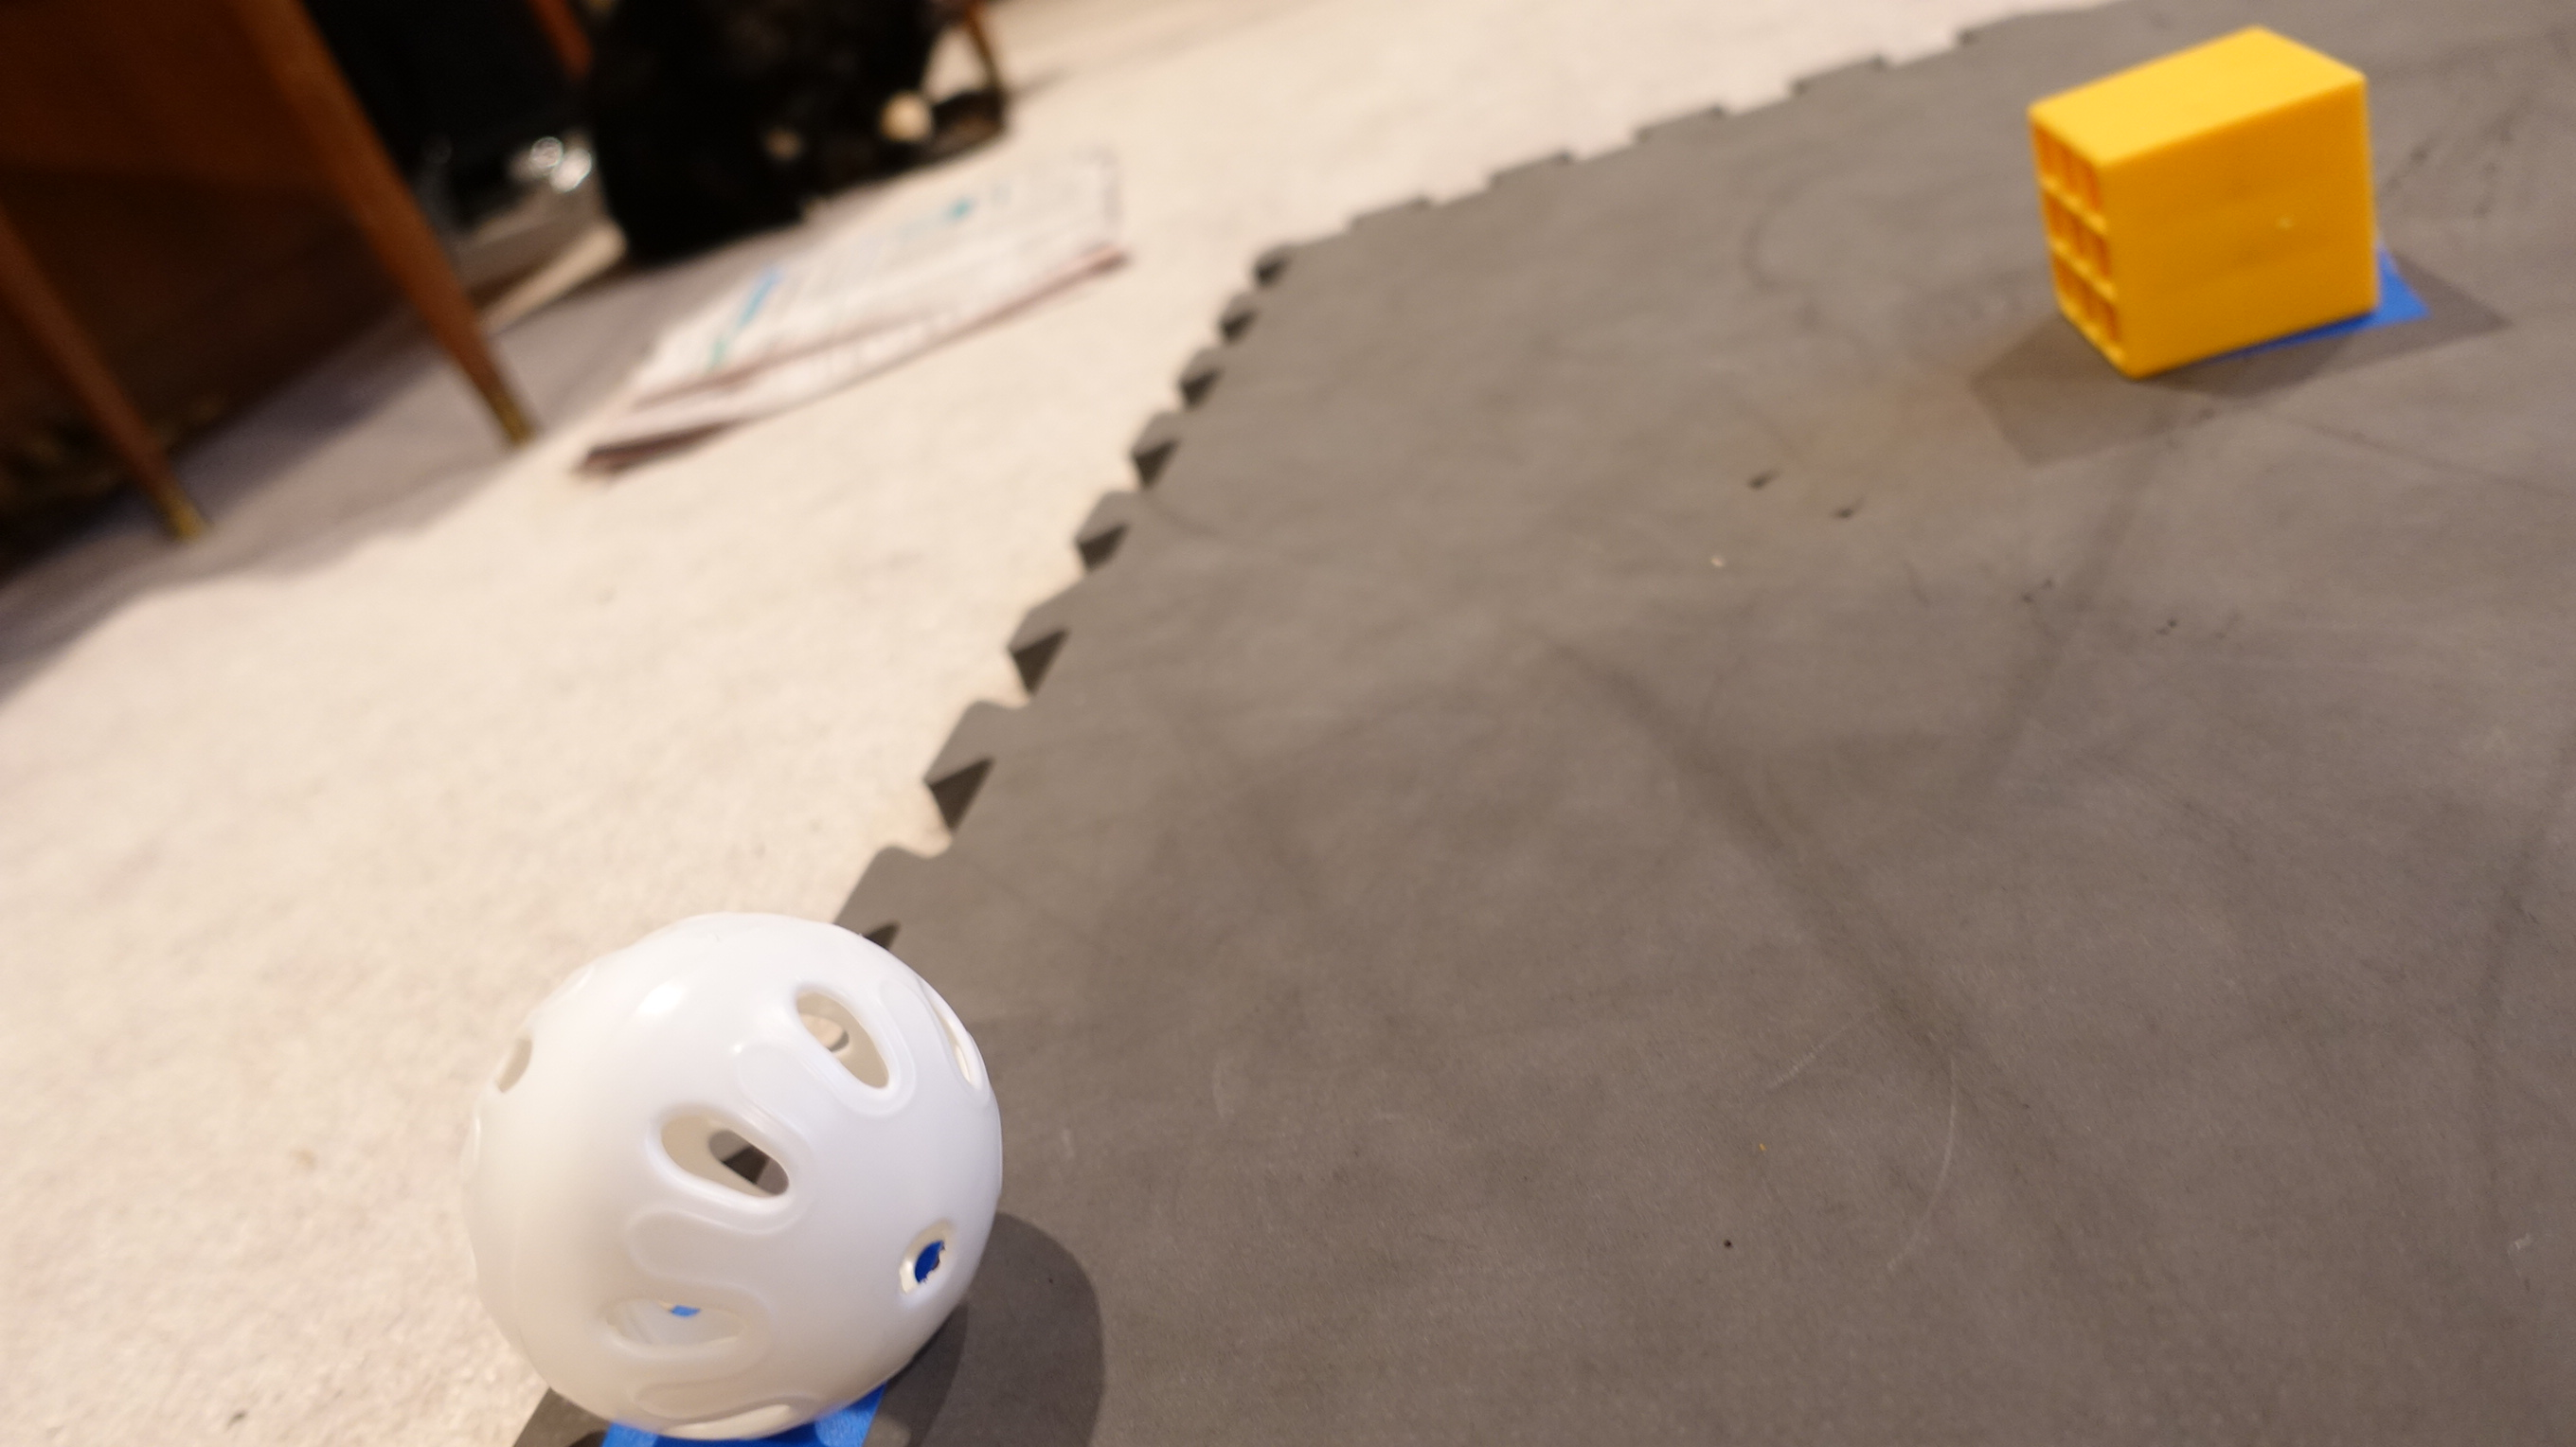gold: (2022, 25, 2399, 380)
silver: (451, 911, 1003, 1435)
